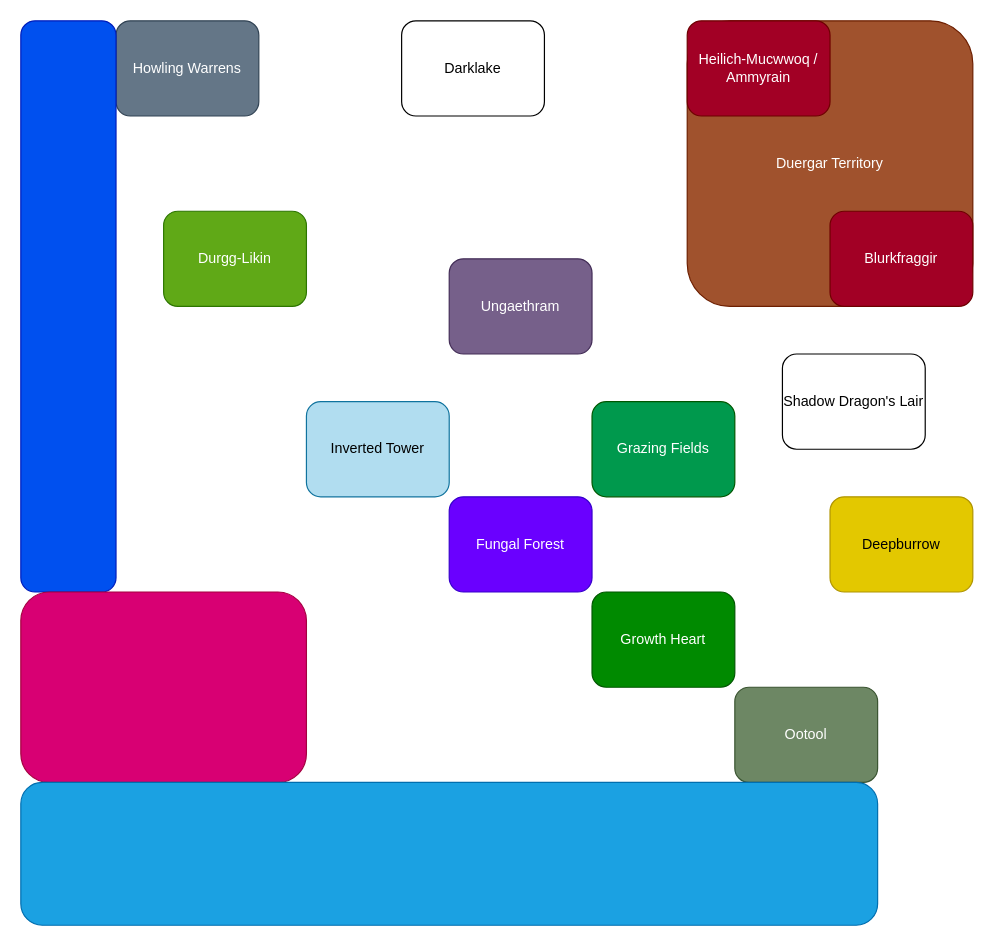
Image size: 994x946. Some labels were removed from this diagram. The shapes that lost their labels are listed below. From the top down, each one's centre as x and y in pixels, then its label:
At point 68,306: "Long River".
At point 163,686: "Trog Territory".
At point 449,853: "Crystal Sea".
